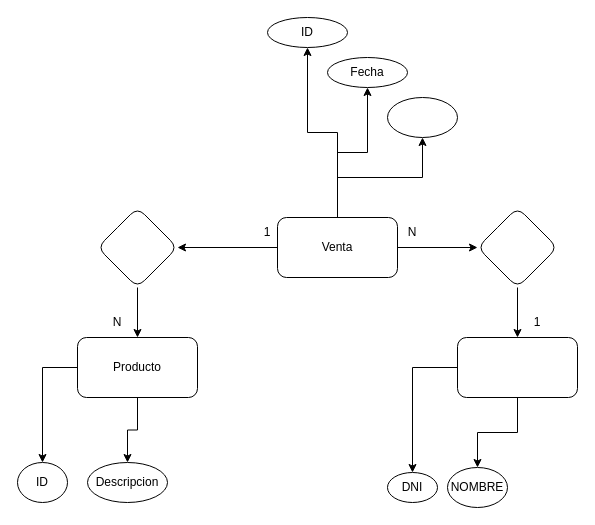
Some shapes in this 595 by 525 pixel diagram are drawn without their labels. Here are the shapes that lost their labels. From the top down, the centre of each, then its label:
the point at 422,117: Importe
the point at 137,247: Tiene
the point at 517,247: Genera
the point at 517,367: Cliente
